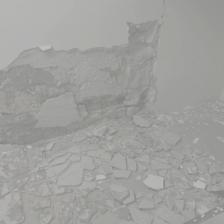High: (1, 1, 169, 151)
